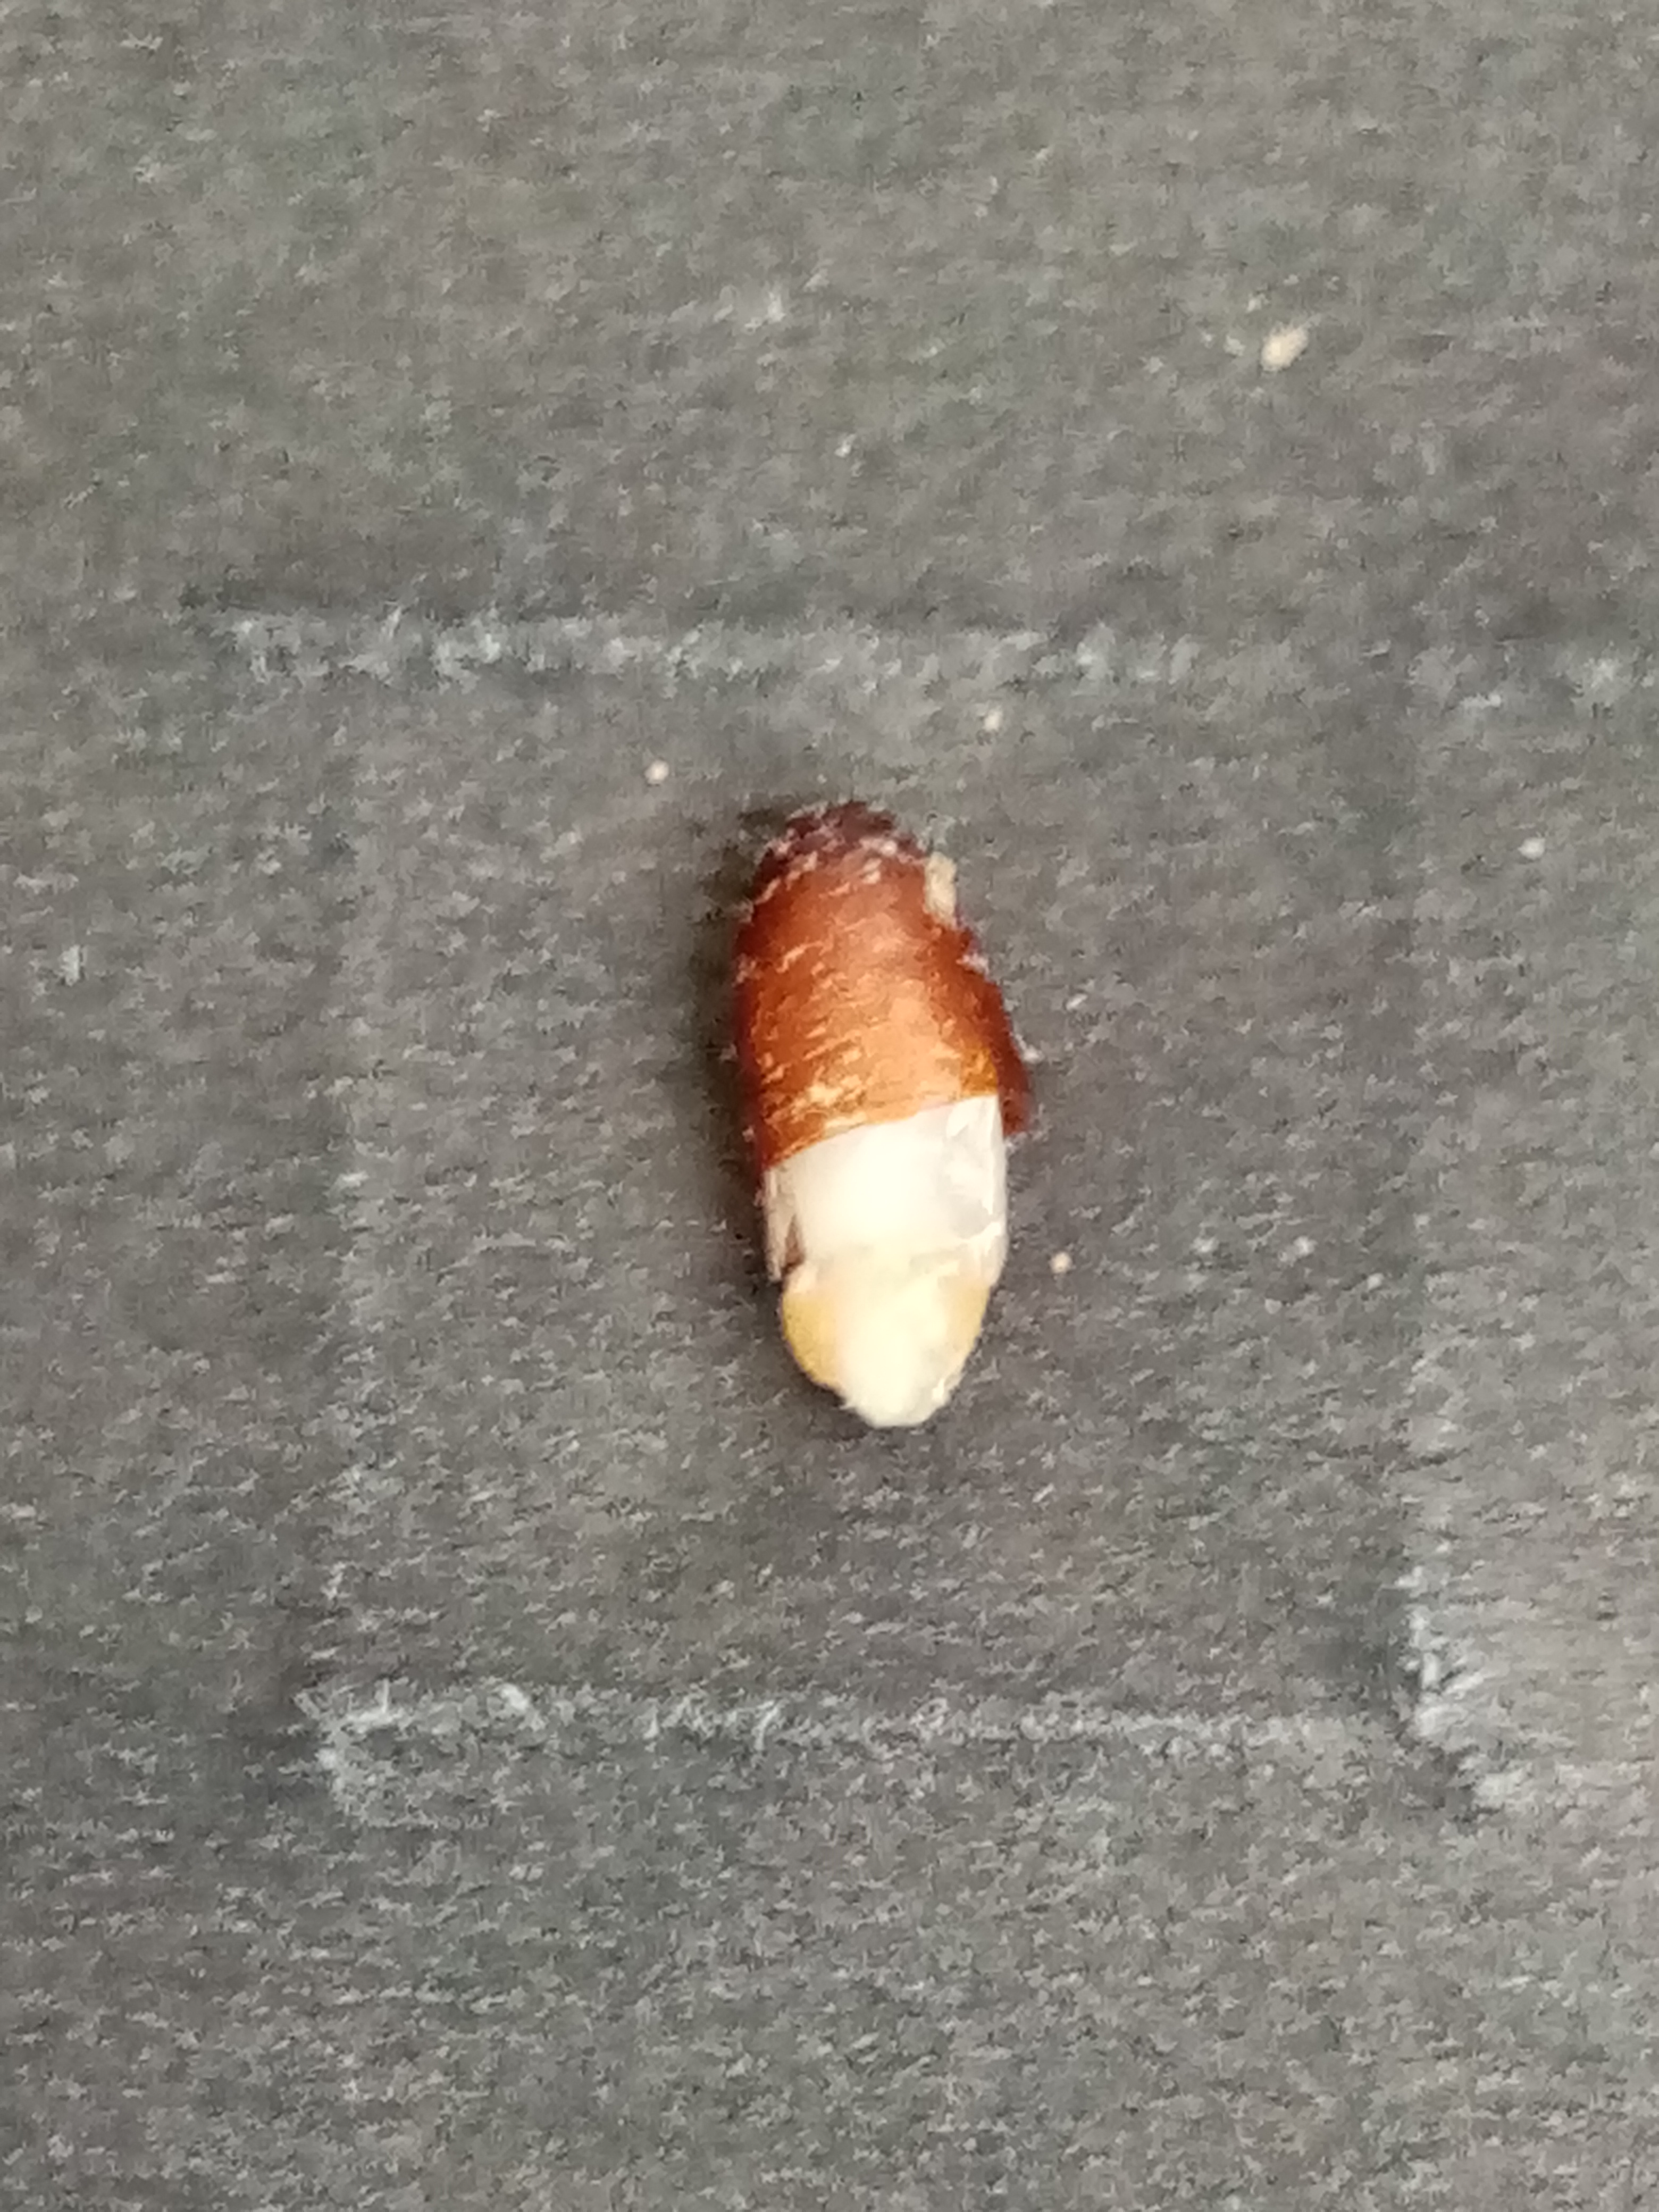pupa: (775, 1233, 1004, 1433)
